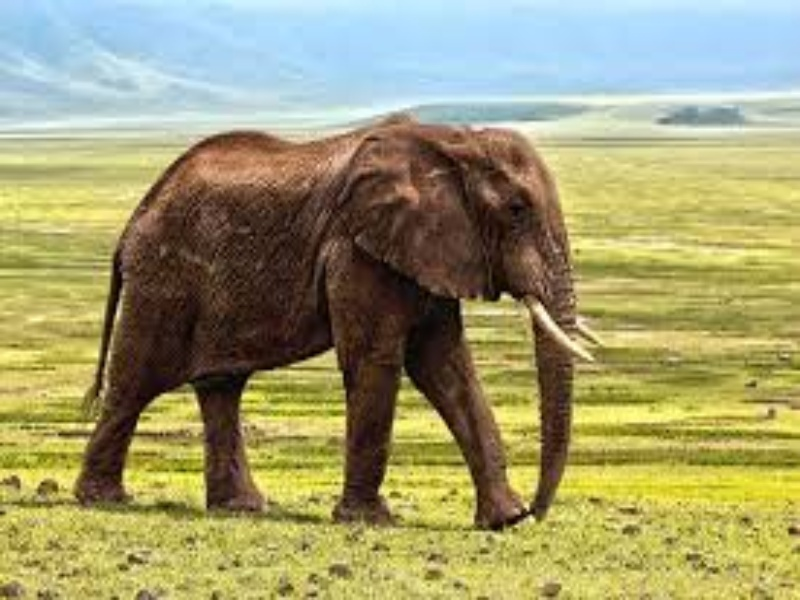elephant: (61, 91, 642, 531)
